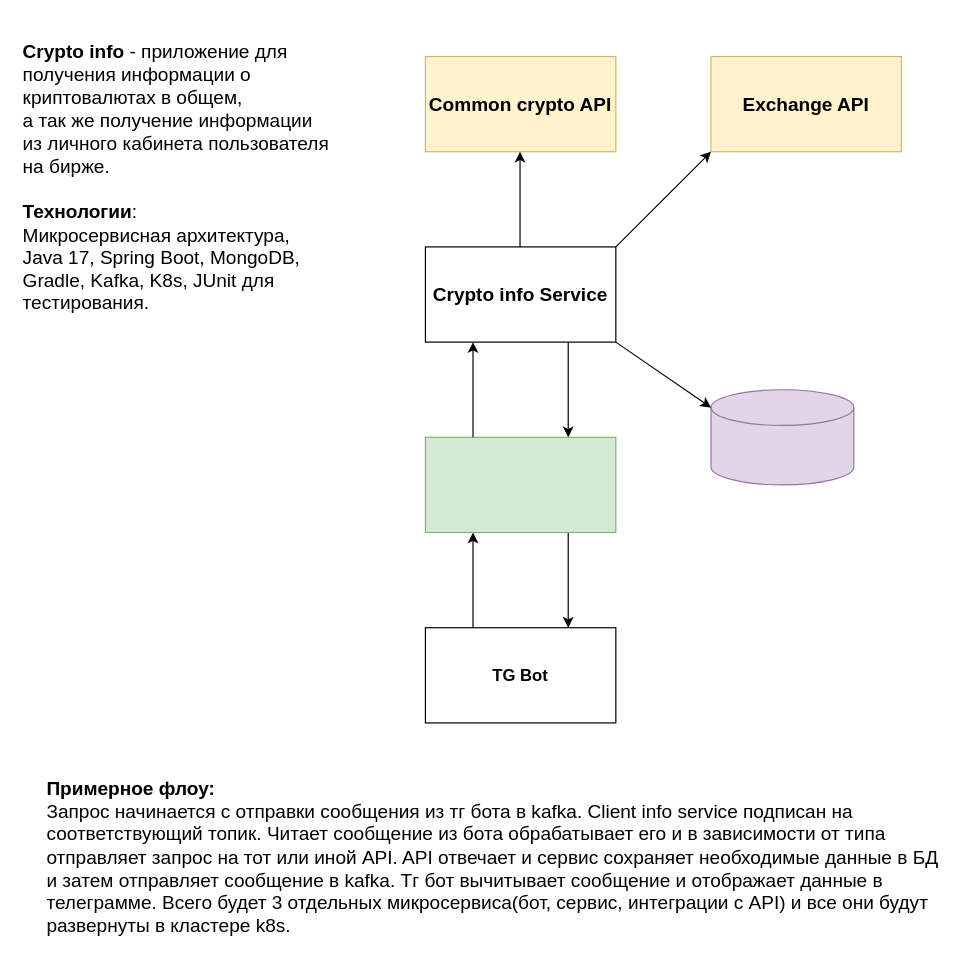
This 969x957 diagram has some shape labels left out. Each missing label, with the box of its shape:
Database: (710, 389, 854, 485)
Kafka: (424, 436, 616, 533)
